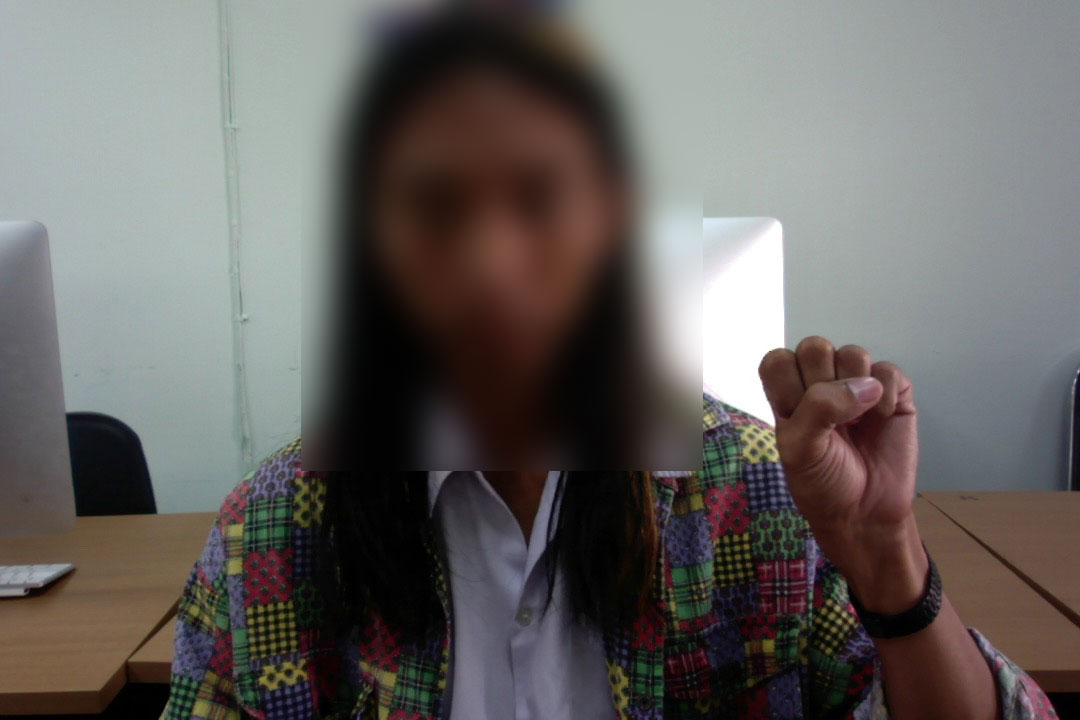sor: (751, 326, 924, 571)
